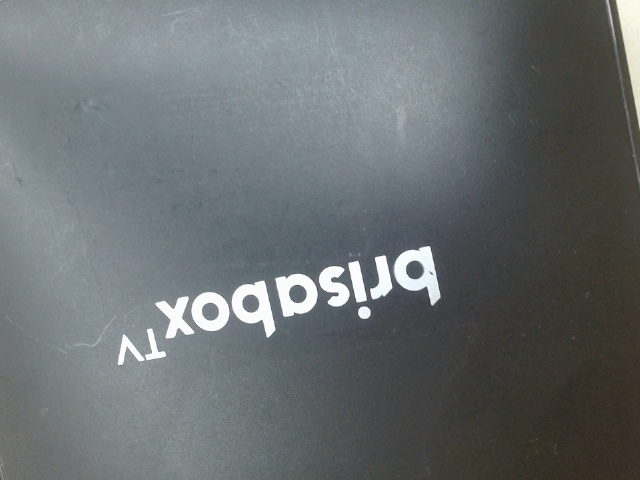AH_brisabox: (84, 241, 447, 372)
